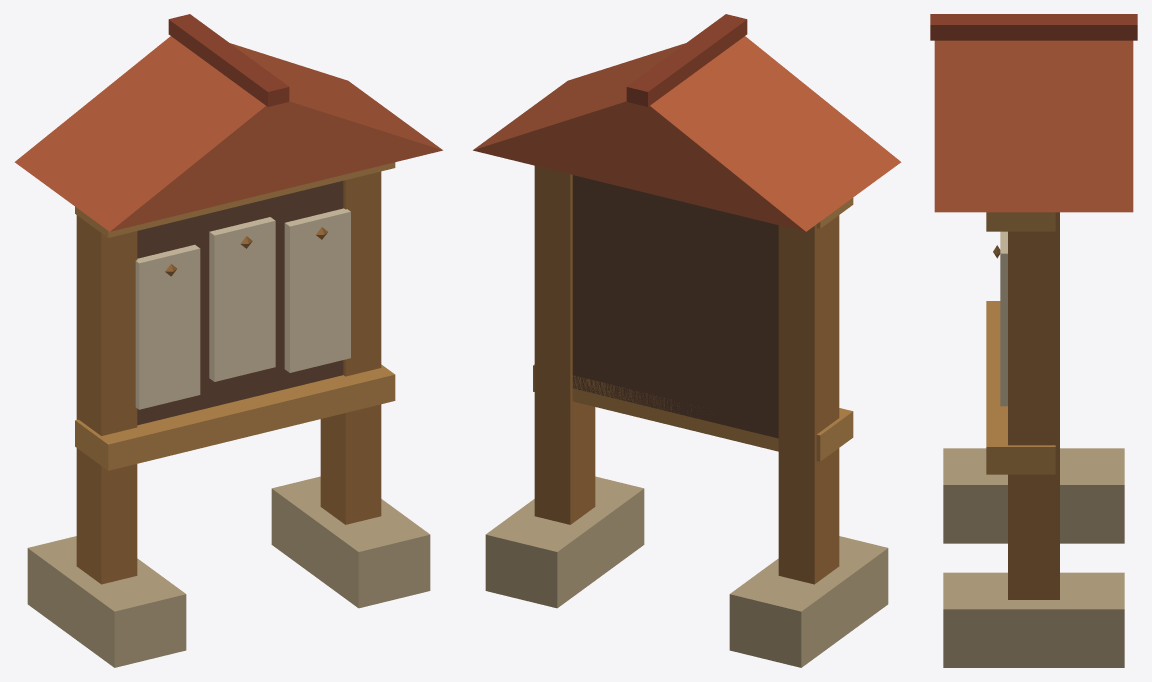
File: order-board.gltf
3 views of the same model, side by side, from view 1: azimuth 30°, elevation 25°; view 2: azimuth 150°, elevation 25°; view 3: azimuth 270°, elevation 25° (orthographic). The views are drawn at different scales.
Visible parts, largest first — view 1: order-board; view 2: order-board; view 3: order-board.
Part boxes in pixels (x1,y1,x2,y2): order-board: (14,14,442,667); order-board: (473,14,901,667); order-board: (930,14,1137,667).
Size of the model in its own units: 0.93 by 1.45 by 0.48.
